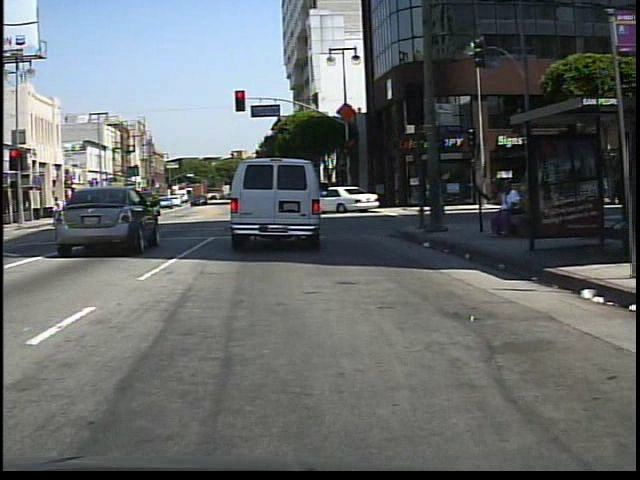person: (488, 178, 524, 240), (424, 167, 453, 235), (51, 194, 68, 226)
